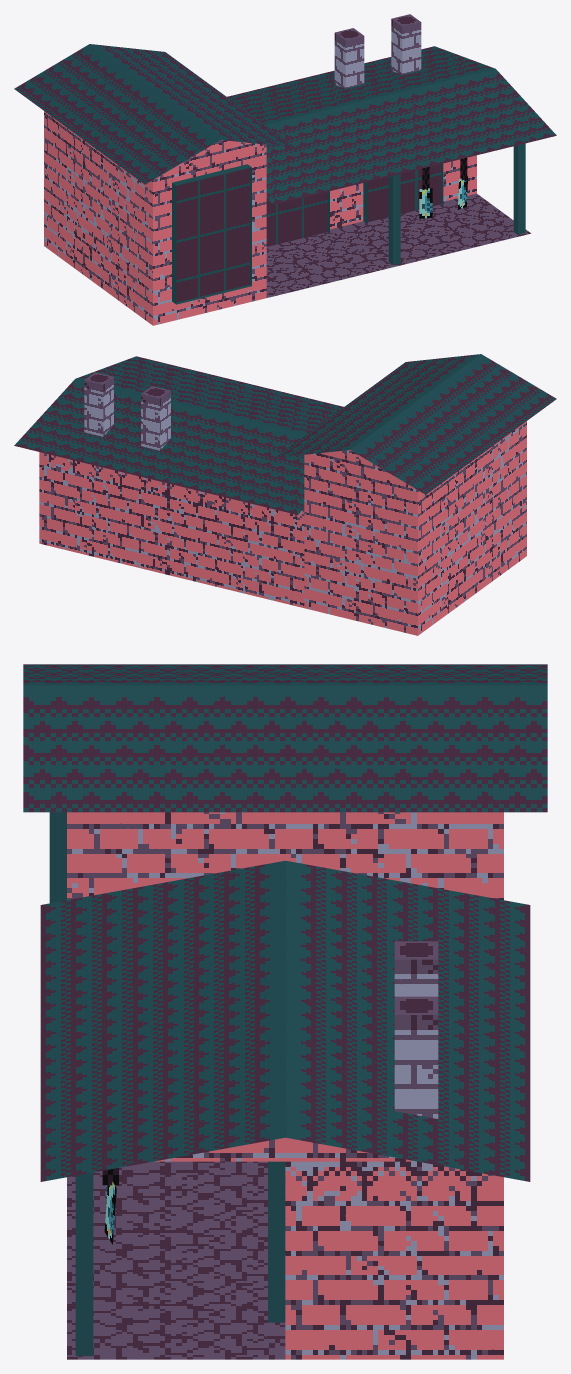
File: commissary_works.glb
The picture shows the model from 3 angles, top to bottom: view 1: azimuth 30°, elevation 25°; view 2: azimuth 150°, elevation 25°; view 3: azimuth 270°, elevation 25°; orthographic projection. The views are drawn at different scales.
Visible parts, largest first — view 1: commissary_works; view 2: commissary_works; view 3: commissary_works.
Boxes of the visible parts, left/top/right/bottom form: commissary_works: left=14, top=14, right=556, bottom=325; commissary_works: left=14, top=354, right=556, bottom=635; commissary_works: left=23, top=664, right=547, bottom=1359.
Bounding box in the file's own units: 11 × 4.55 × 6.
1 material, 1 textured.
